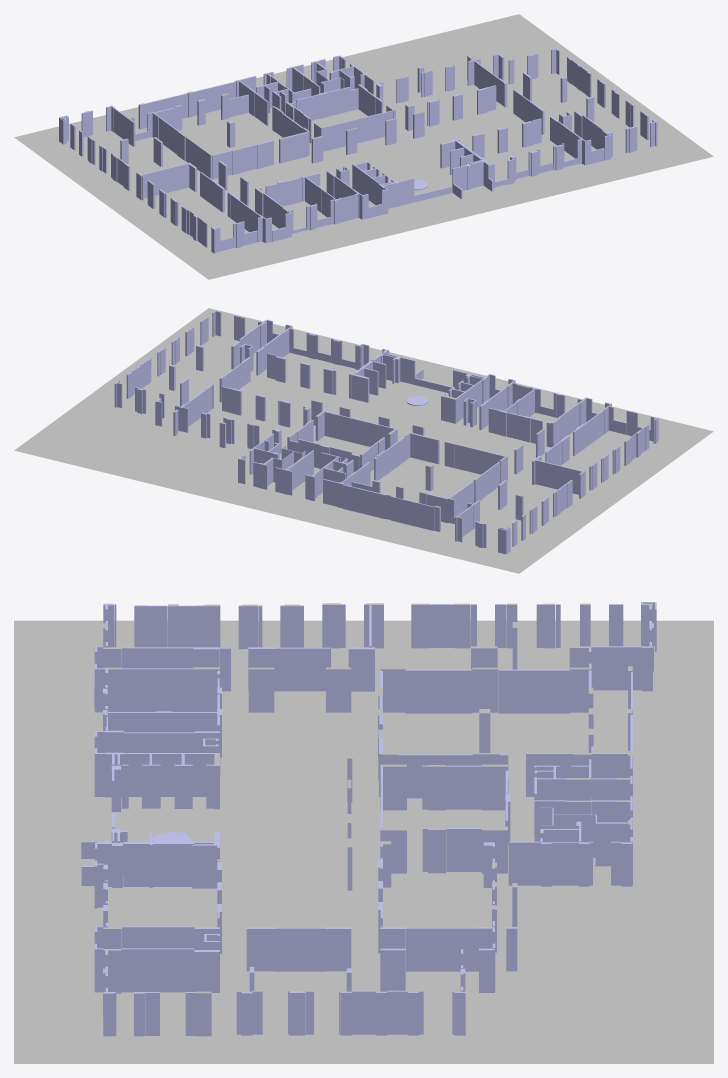
File: MainWallsFile.obj
The picture shows the model from 3 angles, top to bottom: view 1: azimuth 30°, elevation 25°; view 2: azimuth 150°, elevation 25°; view 3: azimuth 270°, elevation 25°; orthographic projection. The views are drawn at different scales.
Parts seen in each view (by area): view 1: 11th_FLOOR_PLAN_-_04-03-15-Model, Cube.246, Cube.181, Cube.278, Cube.280, Cube.116, Cube.272, Cube.023, Cube.009, Cube.273, Cube.198, Cube.013 (+4 smaller); view 2: 11th_FLOOR_PLAN_-_04-03-15-Model, Cube.246, Cube.280, Cube.278, Cube.181, Cube.028, Cube.414, Cube.009, Cube.198, Cube.352, Cube.144, Cube.023 (+3 smaller); view 3: 11th_FLOOR_PLAN_-_04-03-15-Model, Cube.273, Cube.144, Cube.198, Cube.023, Cube.013, Cube.029, Cube.022, Cube.165, Cube.285, Cube.272, Cube.216 (+47 smaller).
Boxes of the visible parts, <box> form: 11th_FLOOR_PLAN_-_04-03-15-Model: <box>14,14,713,279</box>; Cube.246: <box>323,110,393,151</box>; Cube.181: <box>142,163,189,198</box>; Cube.278: <box>193,81,235,115</box>; Cube.280: <box>145,93,187,127</box>; Cube.116: <box>327,87,350,116</box>; Cube.272: <box>557,121,578,158</box>; Cube.023: <box>158,117,178,154</box>; Cube.009: <box>288,132,307,160</box>; Cube.273: <box>582,115,603,149</box>; Cube.198: <box>263,193,283,228</box>; Cube.013: <box>185,137,204,173</box>; 11th_FLOOR_PLAN_-_04-03-15-Model: <box>14,308,713,573</box>; Cube.246: <box>324,411,394,450</box>; Cube.280: <box>391,496,434,530</box>; Cube.278: <box>343,484,385,519</box>; Cube.181: <box>535,460,582,494</box>; Cube.028: <box>385,436,405,475</box>; Cube.414: <box>584,410,604,448</box>; Cube.009: <box>410,432,429,461</box>; Cube.198: <box>558,403,579,439</box>; Cube.352: <box>351,369,369,402</box>; Cube.144: <box>185,389,206,426</box>; Cube.023: <box>455,480,474,516</box>; 11th_FLOOR_PLAN_-_04-03-15-Model: <box>14,620,713,1063</box>; Cube.273: <box>121,948,194,992</box>; Cube.144: <box>406,927,478,971</box>; Cube.198: <box>121,668,193,711</box>; Cube.023: <box>499,669,569,713</box>; Cube.013: <box>405,669,472,713</box>; Cube.029: <box>274,647,330,691</box>; Cube.022: <box>275,927,325,971</box>; Cube.165: <box>591,646,642,690</box>; Cube.285: <box>152,841,193,886</box>; Cube.272: <box>121,926,194,948</box>; Cube.216: <box>152,753,214,796</box>.
Bounding box in the file's own units: 81.9 × 3.83 × 54.67.
